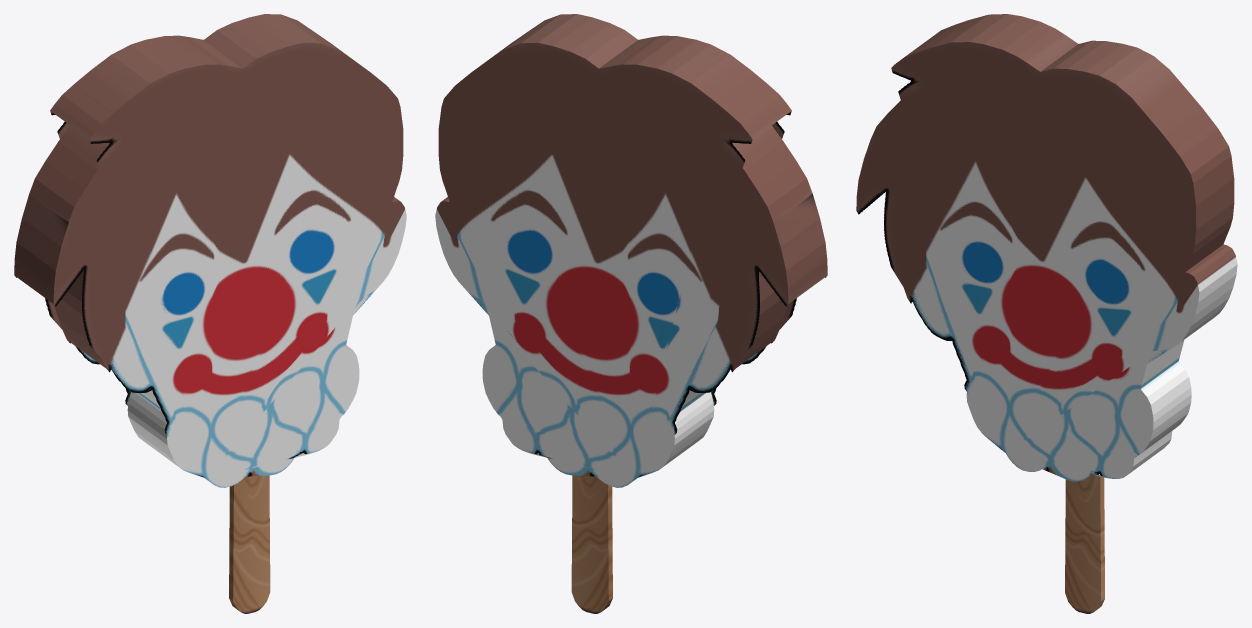
The model's file is chase.fbx.
3 views of the same model, side by side, from view 1: azimuth 30°, elevation 25°; view 2: azimuth 150°, elevation 25°; view 3: azimuth 330°, elevation 25° (orthographic). The views are drawn at different scales.
Parts seen in each view (by area): view 1: chase; view 2: chase; view 3: chase.
Part boxes in pixels (x1,y1,x2,y2): chase: (14, 14, 406, 613); chase: (435, 14, 827, 613); chase: (856, 14, 1237, 613).
Bounding box in the file's own units: 130 × 203 × 25.
1 material, 1 textured.
